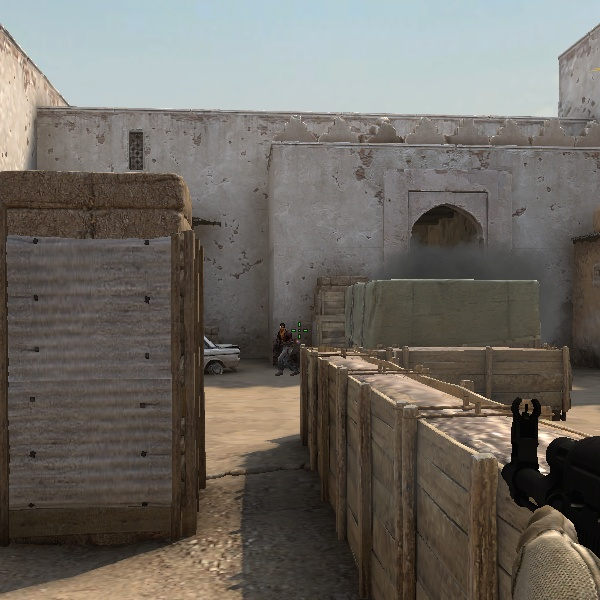t_body: (268, 321, 296, 375)
